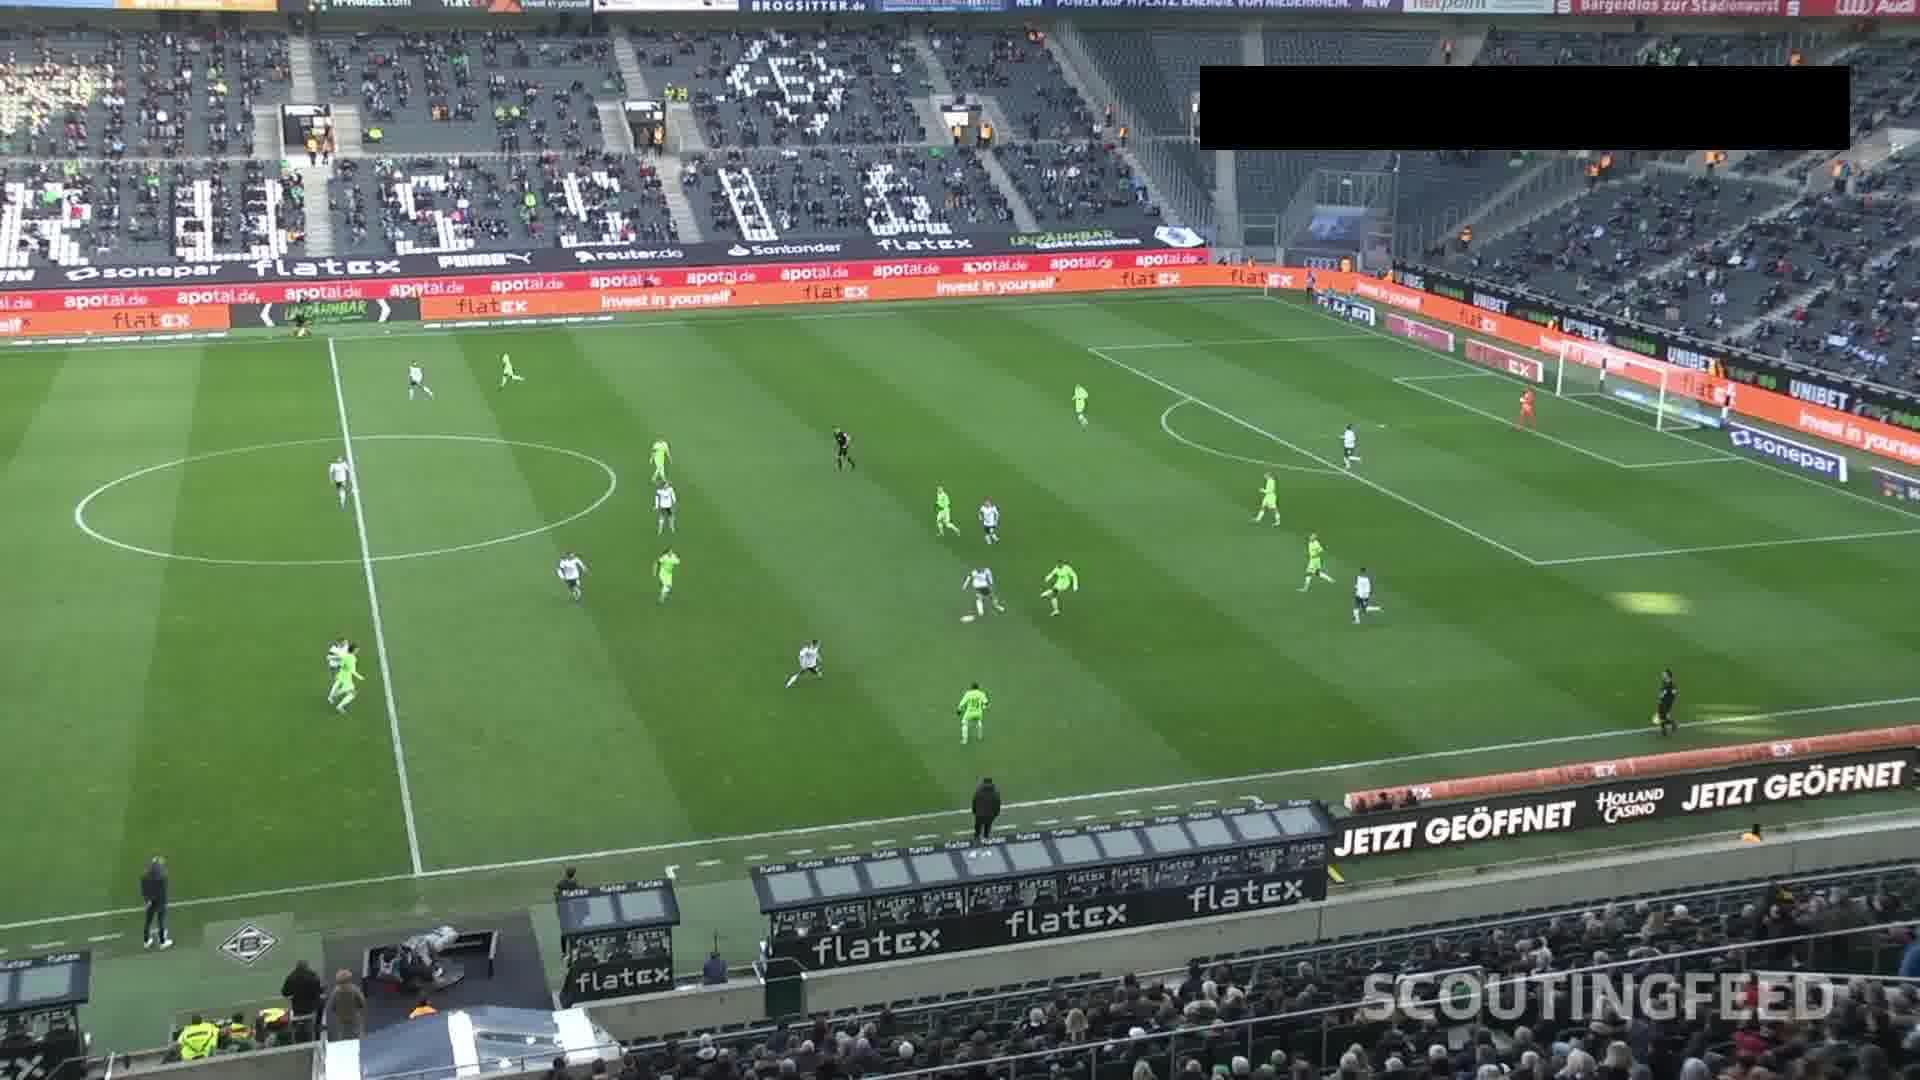football: (960, 616, 975, 624)
